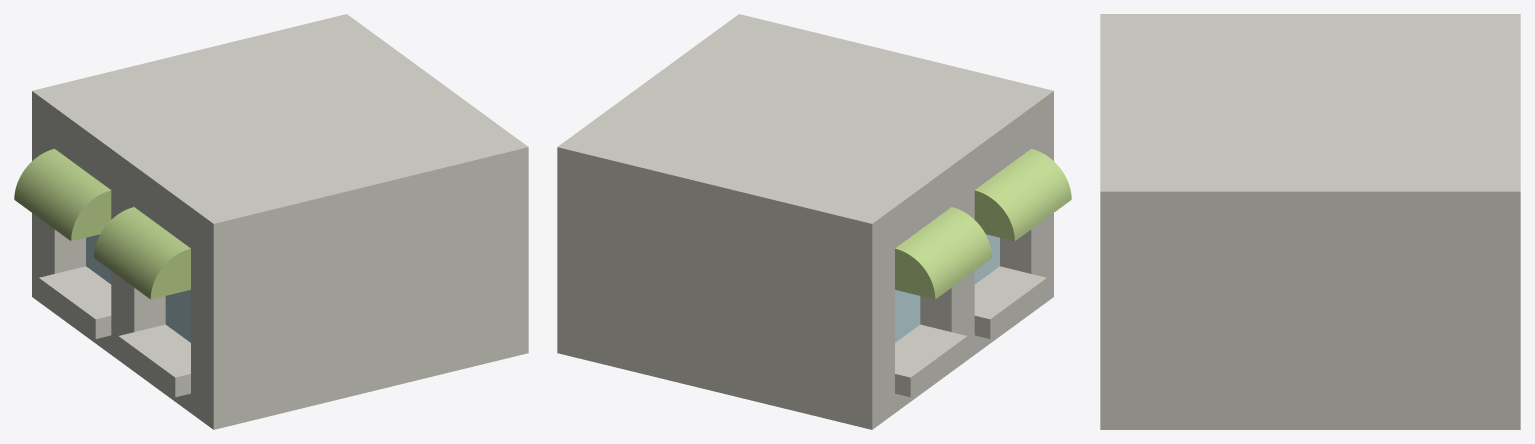
The model's file is modularBuildings_033.gltf.
3 views of the same model, side by side, from view 1: azimuth 30°, elevation 25°; view 2: azimuth 150°, elevation 25°; view 3: azimuth 270°, elevation 25° (orthographic). The views are drawn at different scales.
Visible parts, largest first — view 1: Mesh1 Group1 Model; view 2: Mesh1 Group1 Model; view 3: Mesh1 Group1 Model.
Boxes of the visible parts, box(x1,y1,x2,y2) form: Mesh1 Group1 Model: box(14, 14, 528, 429); Mesh1 Group1 Model: box(557, 14, 1071, 429); Mesh1 Group1 Model: box(1100, 14, 1520, 429).
Bounding box in the file's own units: 1.13 × 0.625 × 1.
